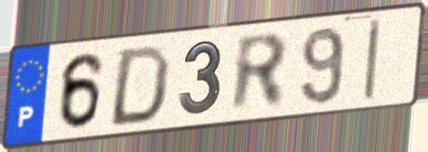3: (177, 37, 225, 120)
6: (56, 51, 106, 132)
9: (297, 24, 347, 107)
D: (105, 42, 174, 129)
I: (361, 15, 384, 104)
R: (230, 31, 291, 117)
